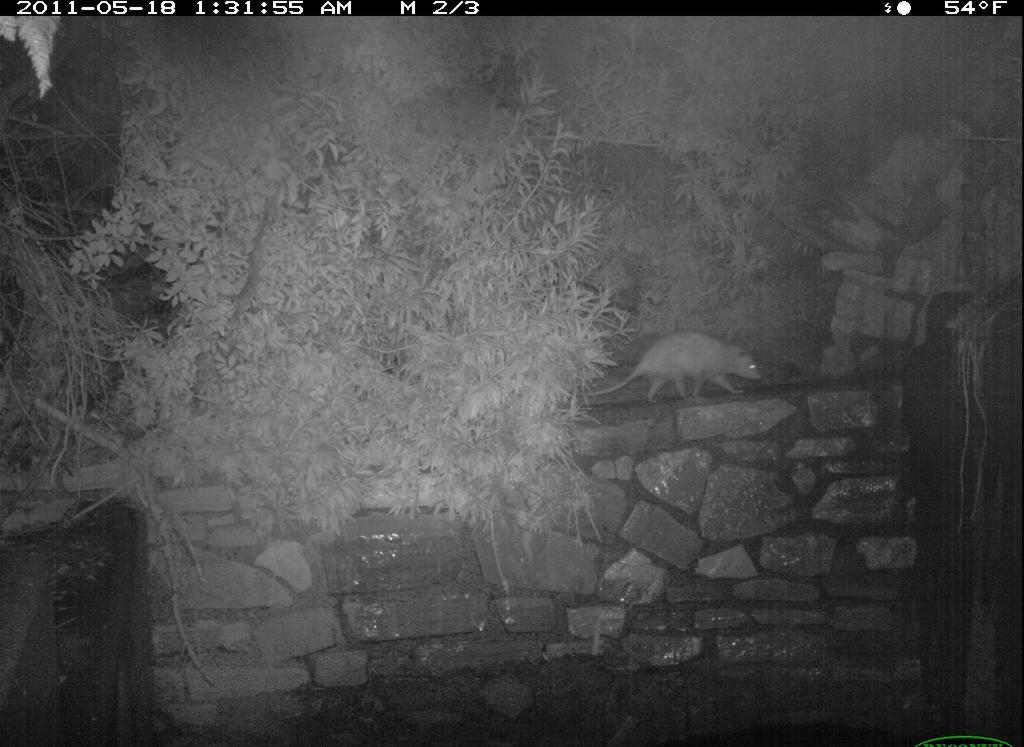opossum: (571, 328, 769, 413)
